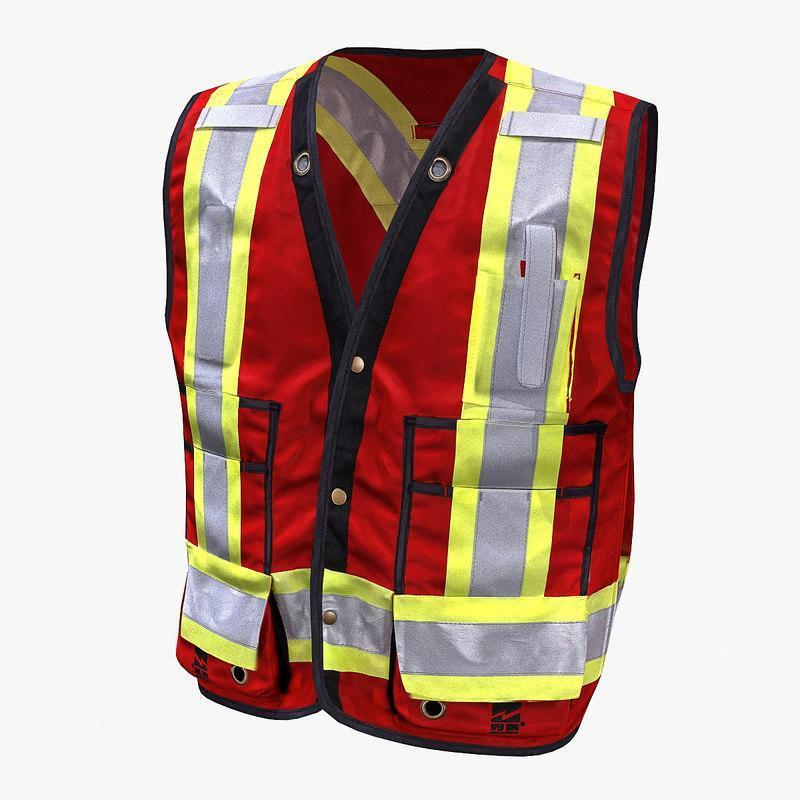vest: (159, 34, 659, 756)
